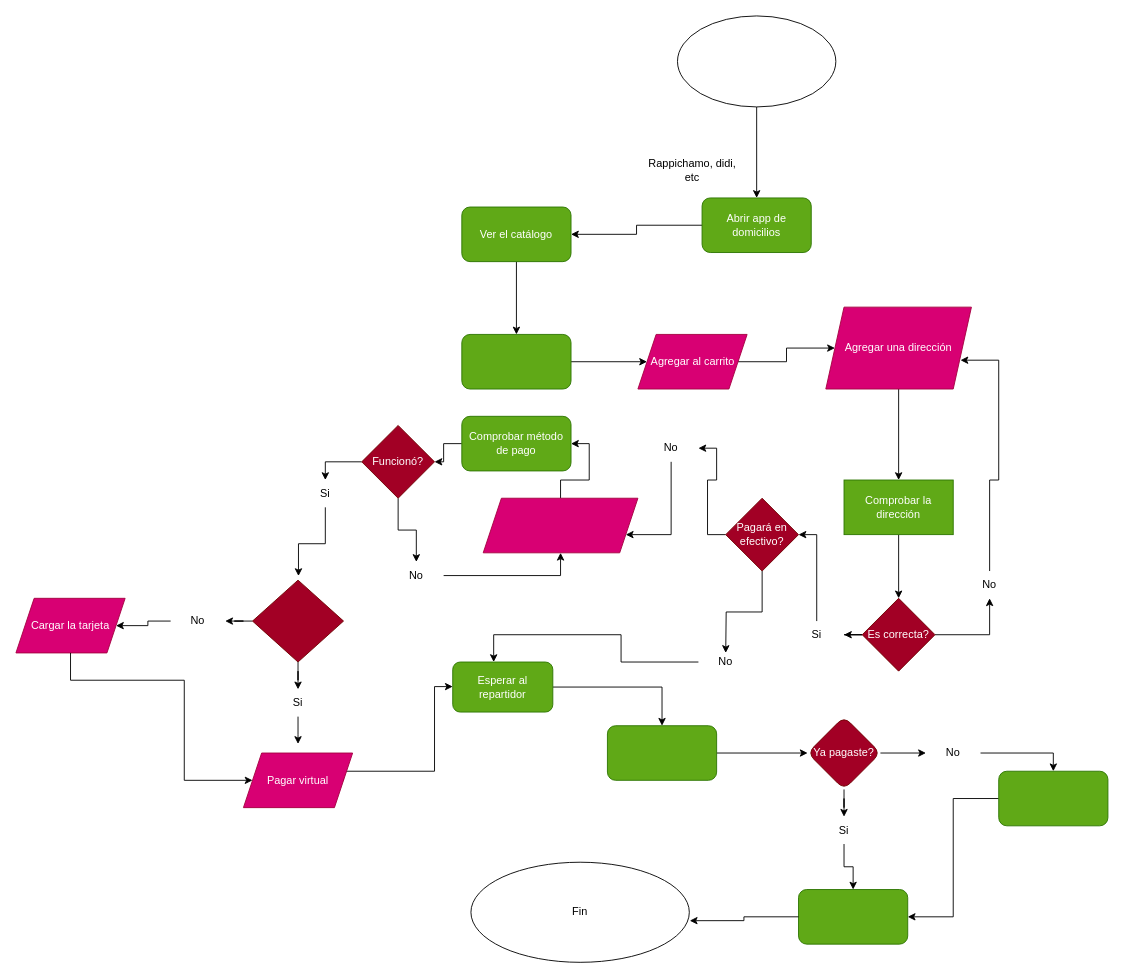
This 1124x978 diagram has some shape labels left out. Here are the shapes that lost their labels. From the top down, the centre of each, then its label:
(756,61): Inicio
(516,361): Decidir qué pedir
(560,525): Agregar método de pago
(298,620): Tiene fondos?
(662,752): Abrir la puerta
(1053,798): Pagar en efectivo
(853,916): Recibir pedido
